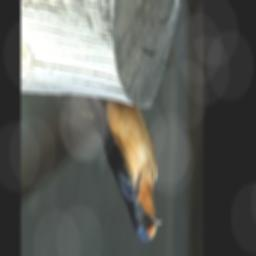Swallow: (57, 97, 163, 243)
